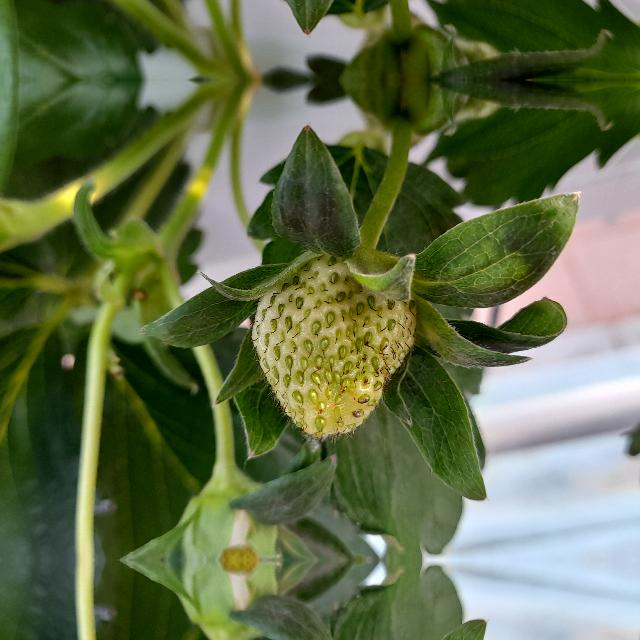Health_25: (251, 254, 417, 442)
